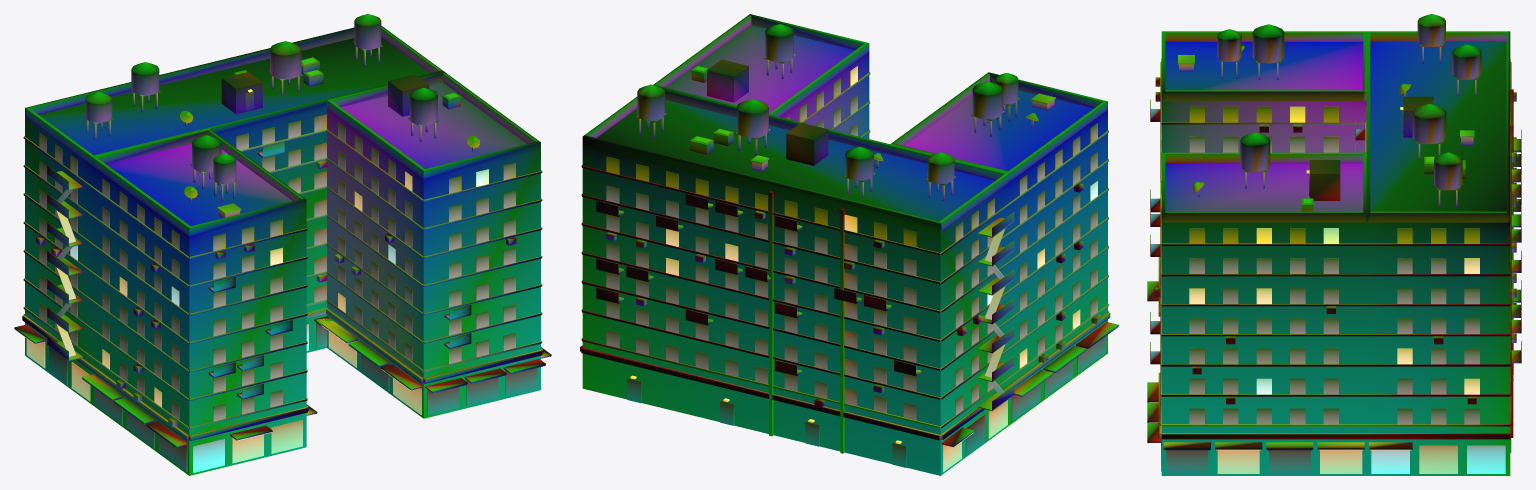
Rendered from Block_Court_V3.fbx.
3 views of the same model, side by side, from view 1: azimuth 30°, elevation 25°; view 2: azimuth 150°, elevation 25°; view 3: azimuth 270°, elevation 25° (orthographic). The views are drawn at different scales.
Parts seen in each view (by area): view 1: Block_Court_V3_LOD0; view 2: Block_Court_V3_LOD0; view 3: Block_Court_V3_LOD0.
Boxes of the visible parts, box(x1,y1,x2,y2) form: Block_Court_V3_LOD0: box(14, 14, 551, 475); Block_Court_V3_LOD0: box(580, 14, 1118, 475); Block_Court_V3_LOD0: box(1147, 14, 1521, 475).
Size of what is drawn, in the model's own units: 45.1 by 32.81 by 36.5.
